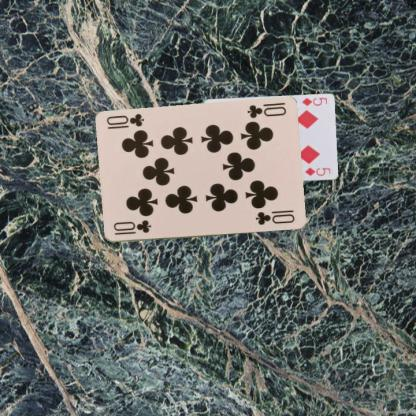10c: (110, 217, 152, 237), (244, 102, 288, 120)
5d: (299, 96, 328, 107)
